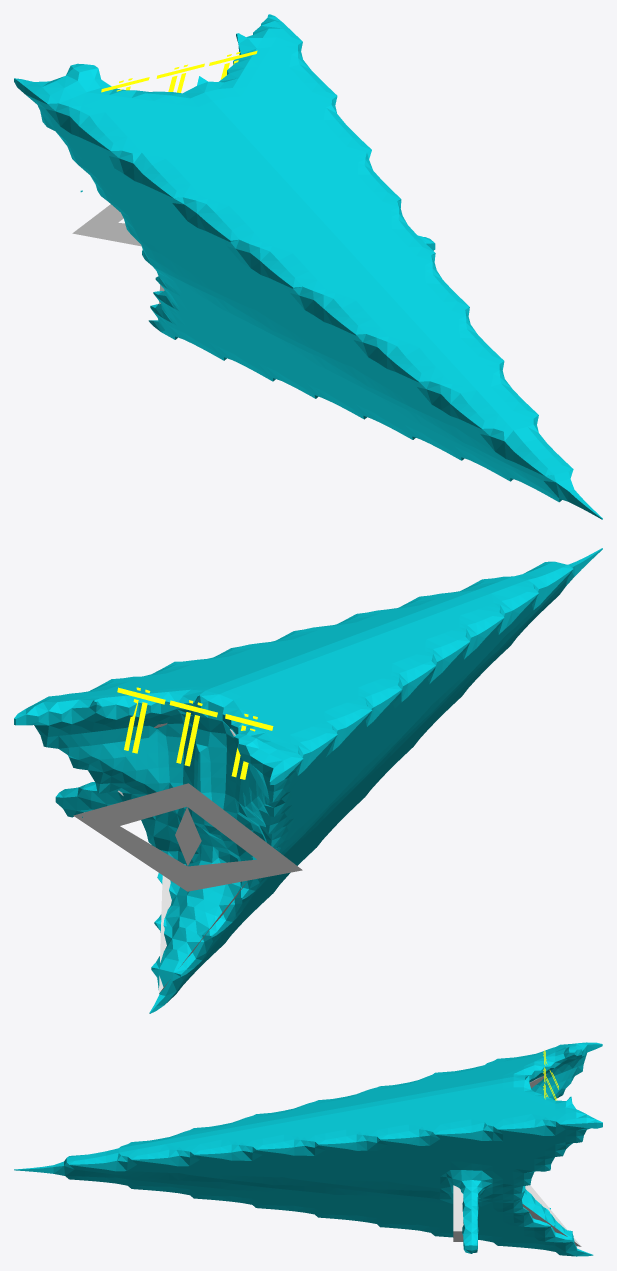
File: Gun4.fbx
The picture shows the model from 3 angles, top to bottom: view 1: azimuth 30°, elevation 25°; view 2: azimuth 150°, elevation 25°; view 3: azimuth 270°, elevation 25°; orthographic projection. The views are drawn at different scales.
Visible parts, largest first — view 1: Cube.001, Cube; view 2: Cube.001, Cube; view 3: Cube.001, Cube.
Boxes of the visible parts, bbox=[...] form: Cube.001: bbox=[14, 14, 602, 519]; Cube: bbox=[72, 50, 257, 304]; Cube.001: bbox=[14, 548, 602, 1013]; Cube: bbox=[73, 687, 302, 993]; Cube.001: bbox=[14, 1042, 602, 1256]; Cube: bbox=[453, 1050, 581, 1246].
Size of the model in its own units: 74.04 by 64.23 by 187.
